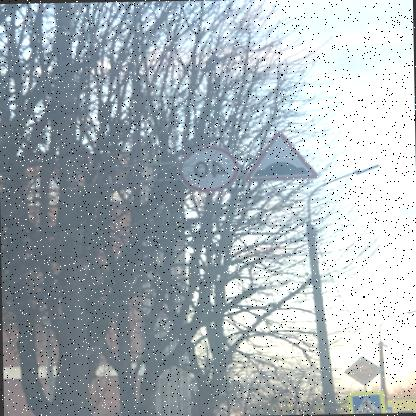crosswalk: (350, 391, 384, 413)
speedlimit: (180, 143, 242, 192)
